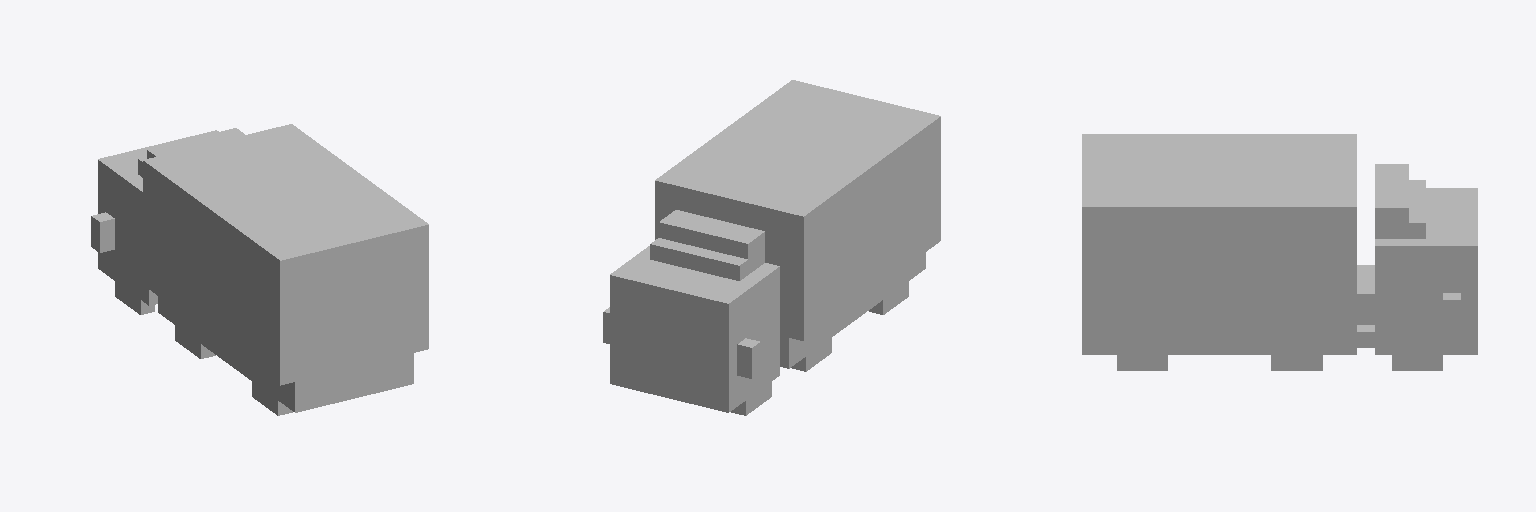
The model's file is red truck.obj.
The picture shows the model from 3 angles: view 1: azimuth 30°, elevation 25°; view 2: azimuth 150°, elevation 25°; view 3: azimuth 270°, elevation 25°; orthographic projection.
Visible parts, largest first — view 1: object 1; view 2: object 1; view 3: object 1.
Part boxes in pixels (bbox=[...]): object 1: bbox=[91, 124, 428, 415]; object 1: bbox=[603, 80, 940, 415]; object 1: bbox=[1082, 134, 1477, 370].
Bounding box in the file's own units: 1 × 1.1 × 2.3.